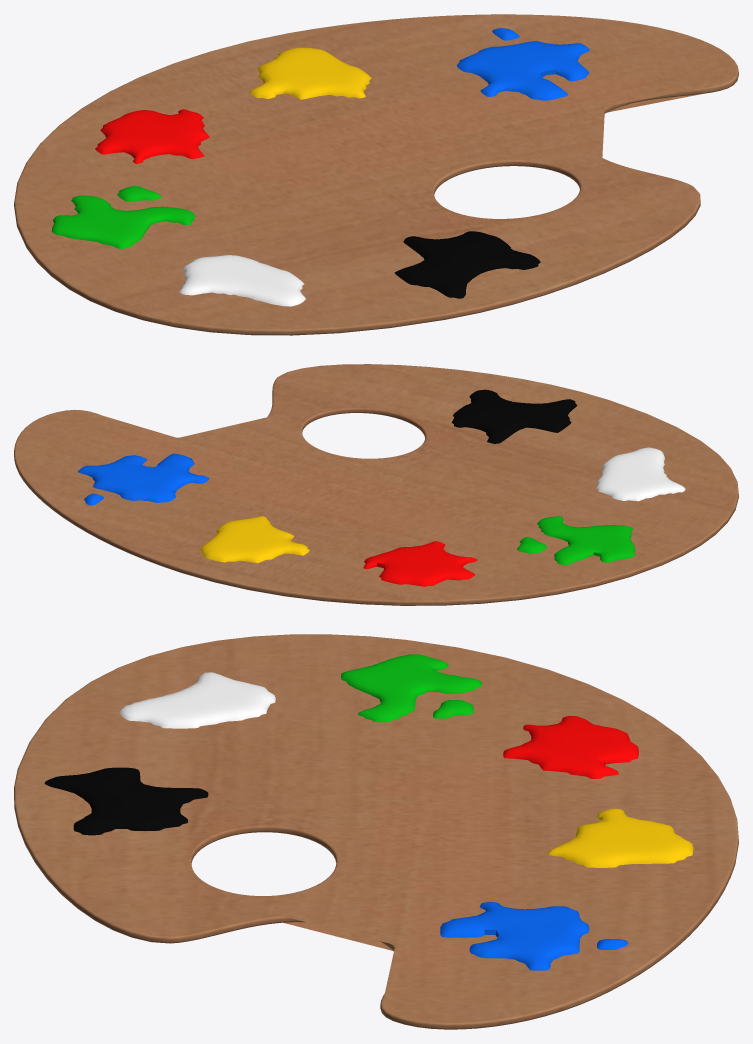
The model's file is palette.FBX.
3 renders of one model, top to bottom at view 1: azimuth 30°, elevation 25°; view 2: azimuth 150°, elevation 25°; view 3: azimuth 270°, elevation 25°, orthographic. The views are drawn at different scales.
Parts seen in each view (by area): view 1: Line01, Plane06, Plane05, Plane08, Plane01, Plane02, Plane07; view 2: Line01, Plane06, Plane05, Plane08, Plane02, Plane01, Plane07; view 3: Line01, Plane06, Plane05, Plane08, Plane01, Plane02, Plane07.
Boxes of the visible parts, x1=… form: Line01: x1=14, y1=14, x2=738, y2=335; Plane06: x1=456, y1=28, x2=589, y2=100; Plane05: x1=394, y1=231, x2=540, y2=298; Plane08: x1=51, y1=186, x2=195, y2=249; Plane01: x1=249, y1=47, x2=371, y2=99; Plane02: x1=95, y1=109, x2=209, y2=163; Plane07: x1=179, y1=255, x2=305, y2=306; Line01: x1=14, y1=364, x2=738, y2=605; Plane06: x1=78, y1=453, x2=209, y2=505; Plane05: x1=452, y1=389, x2=577, y2=443; Plane08: x1=517, y1=516, x2=635, y2=565; Plane02: x1=363, y1=541, x2=477, y2=586; Plane01: x1=200, y1=516, x2=309, y2=563; Plane07: x1=596, y1=447, x2=685, y2=501; Line01: x1=14, y1=634, x2=738, y2=1029; Plane06: x1=440, y1=902, x2=628, y2=970; Plane05: x1=44, y1=767, x2=208, y2=835; Plane08: x1=341, y1=654, x2=481, y2=722; Plane01: x1=548, y1=808, x2=693, y2=867; Plane02: x1=503, y1=716, x2=638, y2=778; Plane07: x1=119, y1=672, x2=275, y2=728.
Size of the model in its own units: 110 by 86.24 by 1.78.
7 materials, 1 textured.
